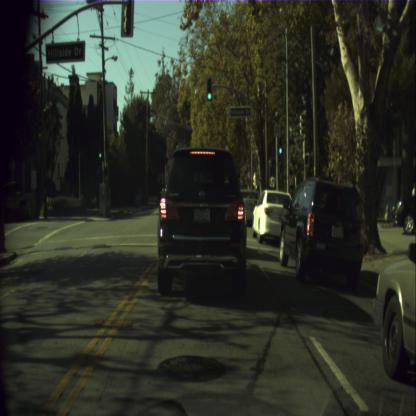Green: (206, 78, 212, 100), (278, 138, 283, 155), (98, 143, 102, 159)
